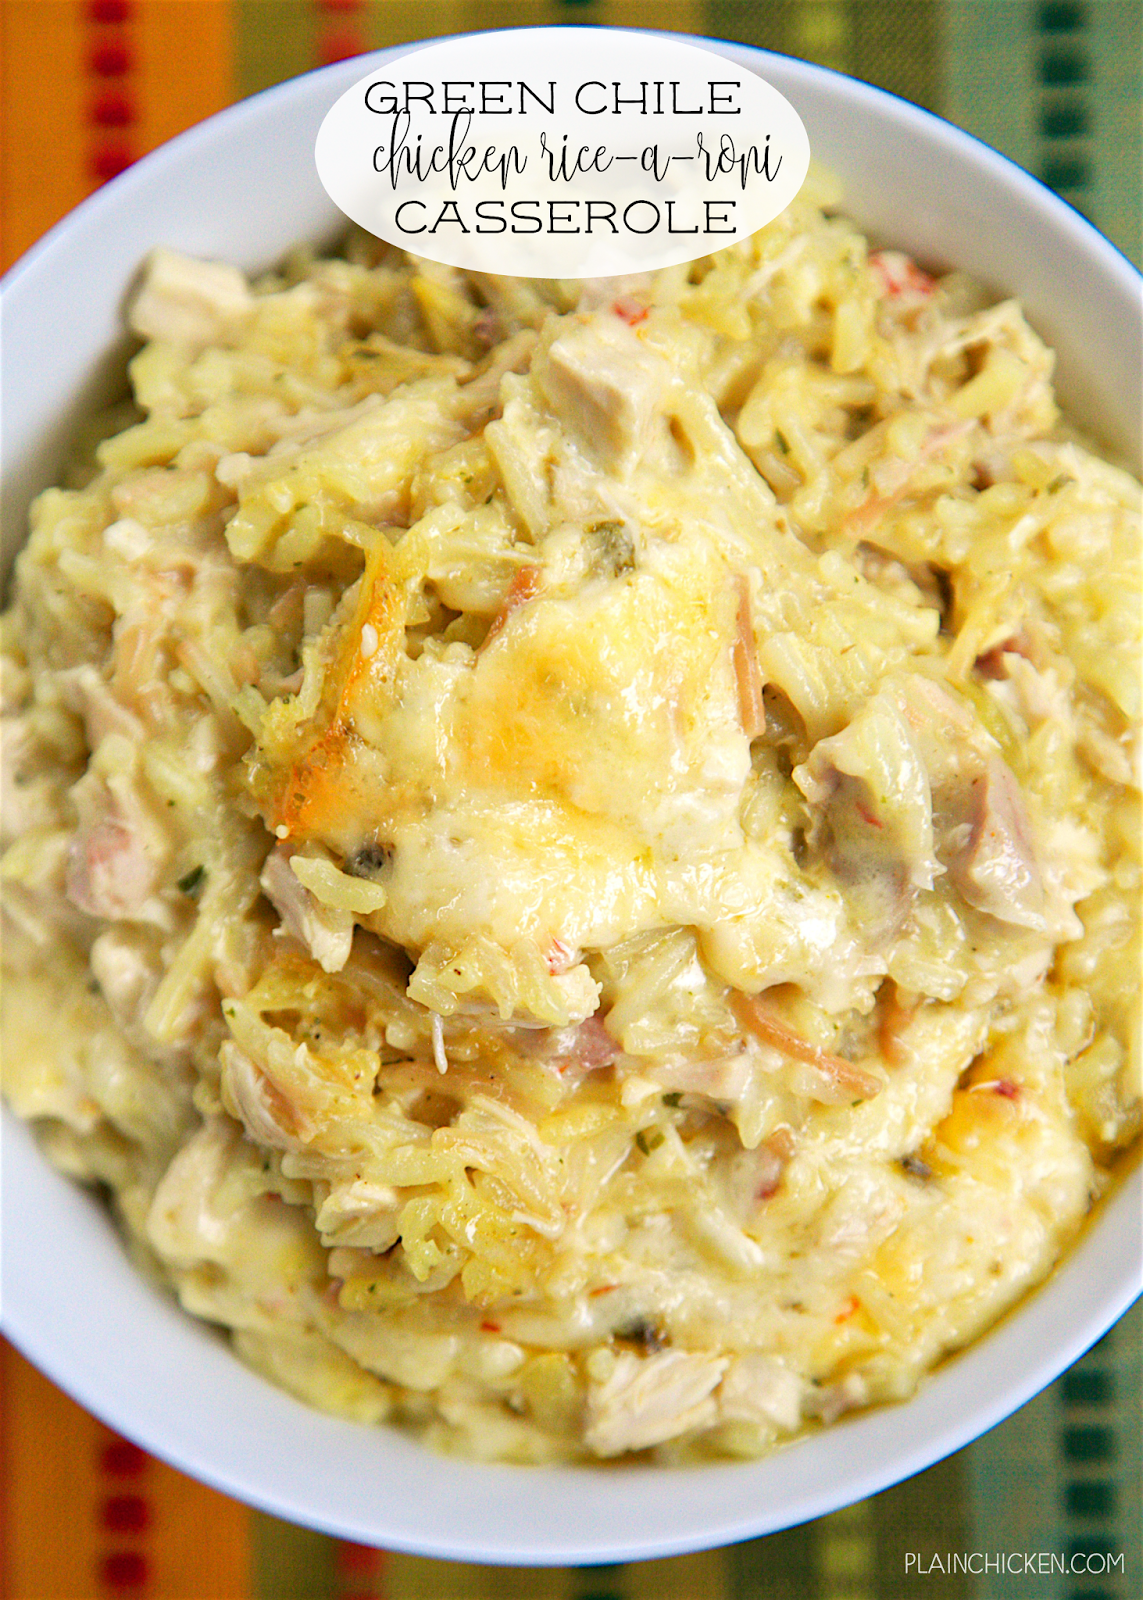plain spaghetti: (177, 427, 990, 1288)
